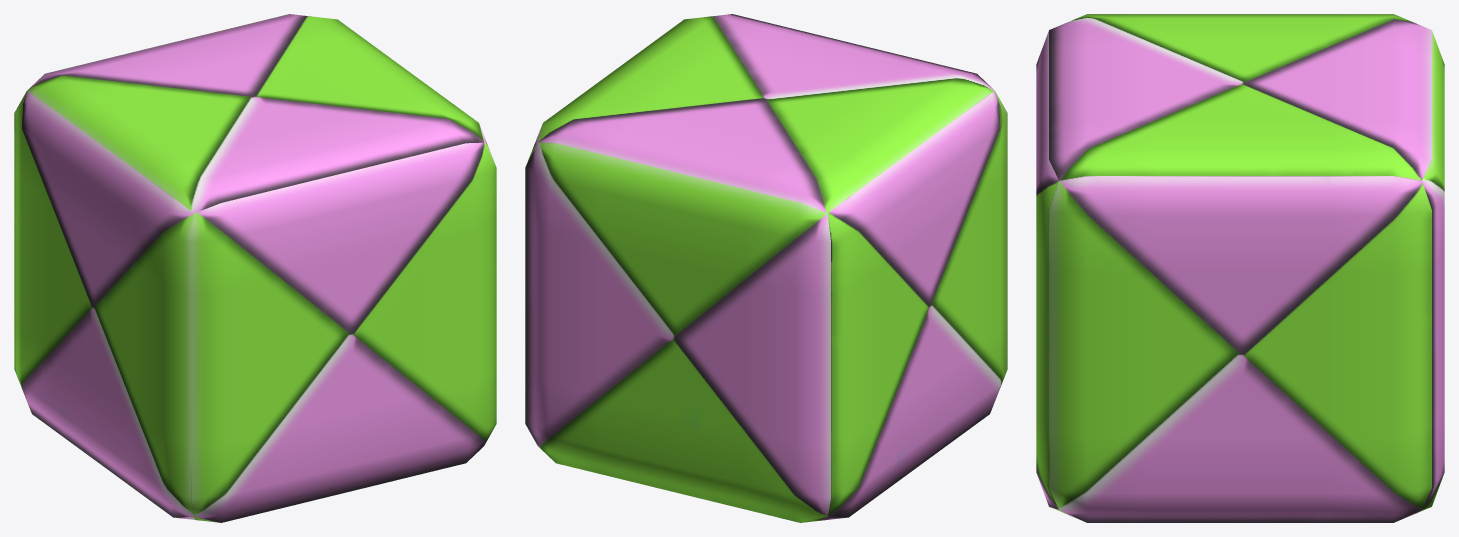
File: block_sankaku2.fbx
The picture shows the model from 3 angles, left to right: view 1: azimuth 30°, elevation 25°; view 2: azimuth 150°, elevation 25°; view 3: azimuth 270°, elevation 25°; orthographic projection. The views are drawn at different scales.
Parts seen in each view (by area): view 1: pCube1; view 2: pCube1; view 3: pCube1.
Part boxes in pixels (x1=…): pCube1: x1=14, y1=14, x2=496, y2=522; pCube1: x1=525, y1=14, x2=1007, y2=522; pCube1: x1=1036, y1=14, x2=1444, y2=522.
Size of the model in its own units: 2.06 by 2.06 by 2.06.
Materials: 1 (1 with a texture image).
